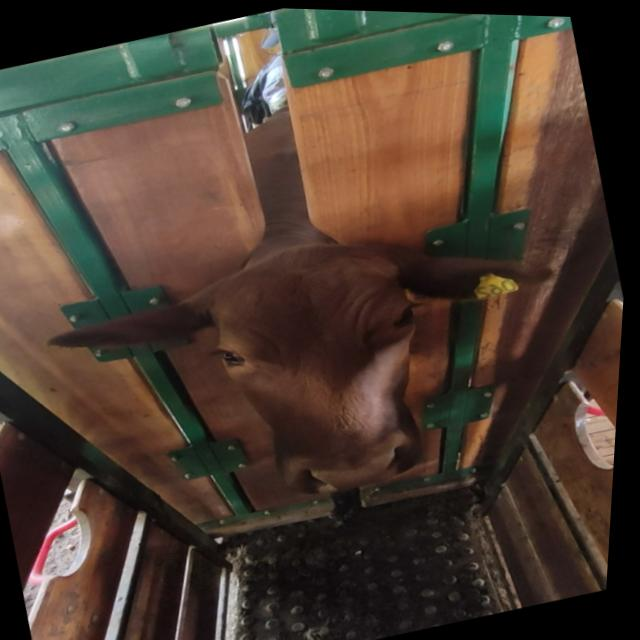cowFace: (189, 221, 461, 518)
